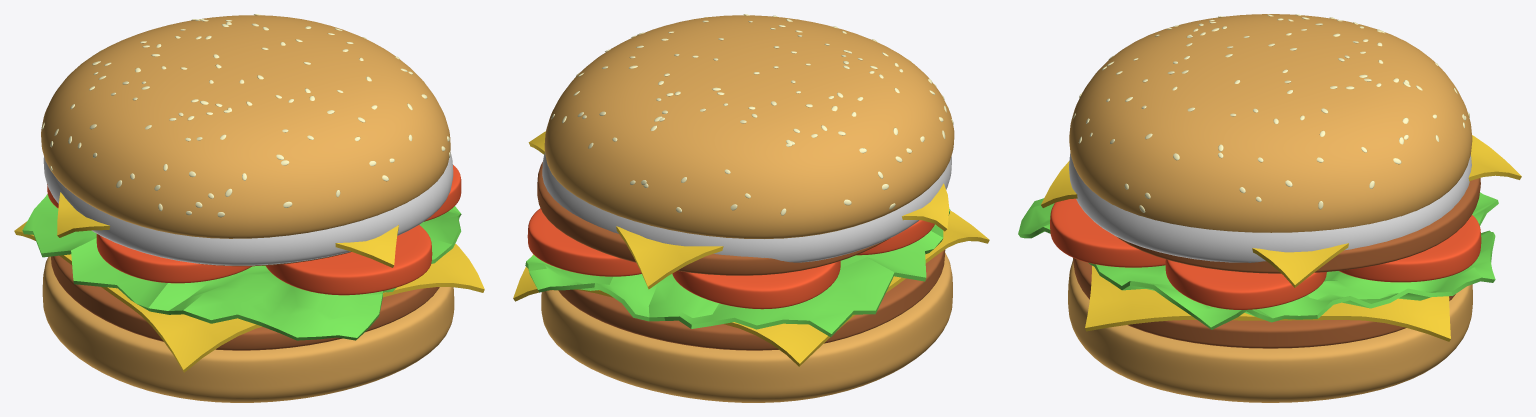
File: hamburger.glb
The picture shows the model from 3 angles, left to right: view 1: azimuth 30°, elevation 25°; view 2: azimuth 150°, elevation 25°; view 3: azimuth 270°, elevation 25°; orthographic projection.
Parts seen in each view (by area): view 1: Bread top.001, Bread bottom, Salad, Bread top, Cheese, Tomato.004, Meat, Tomato, Cheese 2, Tomato.003; view 2: Bread top.001, Bread bottom, Salad, Bread top, Meat, Meat 2, Tomato.001, Cheese, Cheese 2, Tomato.002, Tomato; view 3: Bread top.001, Bread bottom, Bread top, Salad, Cheese, Meat, Meat 2, Tomato.003, Tomato.004, Cheese 2, Tomato.002.
Boxes of the visible parts, x1,y1,x2,y2 form: Bread top.001: (41, 15, 450, 238); Bread bottom: (42, 256, 454, 402); Salad: (22, 194, 461, 340); Bread top: (43, 152, 453, 265); Cheese: (14, 221, 484, 372); Tomato.004: (266, 225, 432, 295); Meat: (51, 255, 439, 350); Tomato: (96, 234, 251, 283); Cheese 2: (57, 192, 398, 267); Tomato.003: (424, 165, 461, 221); Bread top.001: (544, 15, 954, 238); Bread bottom: (541, 252, 952, 402); Salad: (525, 209, 950, 337); Bread top: (542, 153, 951, 262); Meat: (558, 250, 945, 350); Meat 2: (537, 162, 889, 275); Tomato.001: (672, 261, 840, 309); Cheese: (513, 210, 989, 366); Cheese 2: (528, 131, 949, 289); Tomato.002: (527, 208, 641, 276); Tomato: (856, 220, 934, 255); Bread top.001: (1069, 14, 1472, 232); Bread bottom: (1068, 260, 1472, 402); Bread top: (1069, 153, 1471, 262); Salad: (1018, 192, 1498, 329); Cheese: (1085, 265, 1450, 341); Meat: (1073, 258, 1455, 348); Meat 2: (1116, 178, 1480, 273); Tomato.003: (1165, 259, 1326, 309); Tomato.004: (1050, 198, 1165, 267); Cheese 2: (1041, 135, 1521, 287); Tomato.002: (1339, 215, 1481, 282).
Size of the model in its own units: 21.12 by 14.48 by 22.83.
